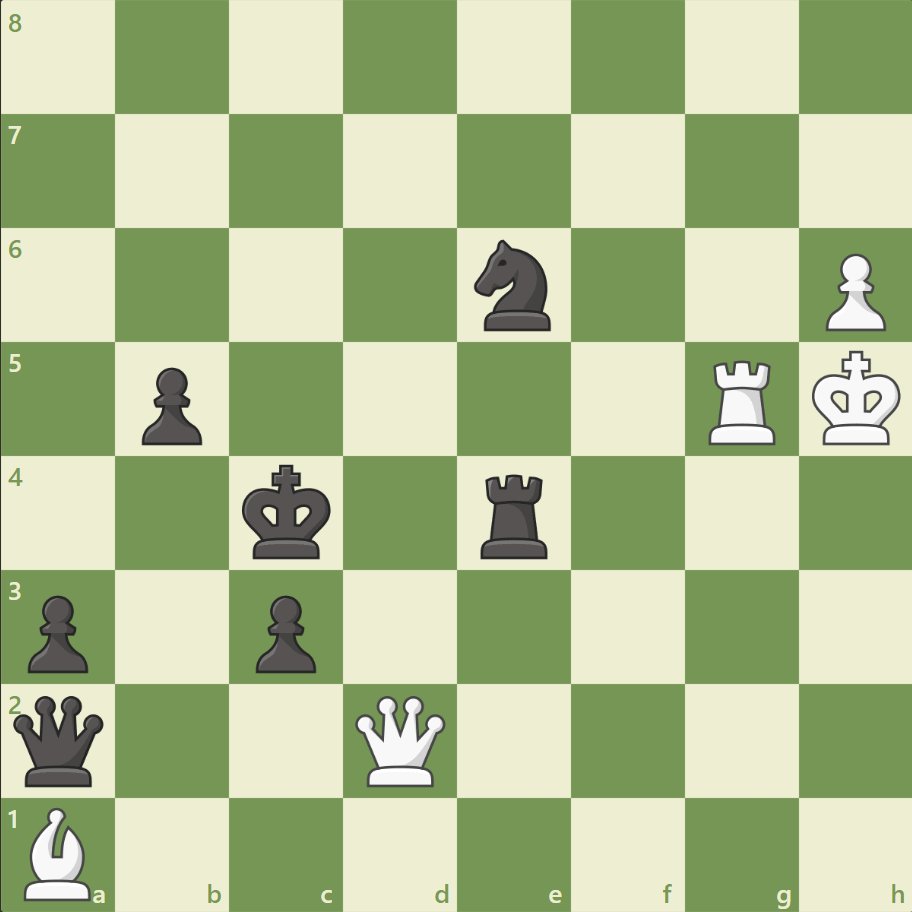B: (17, 801, 101, 904)
K: (806, 344, 906, 452)
P: (815, 246, 889, 337)
Q: (351, 690, 450, 789)
R: (700, 352, 783, 449)
k: (238, 458, 338, 566)
n: (465, 234, 562, 337)
p: (133, 359, 208, 450), (20, 586, 95, 677), (247, 586, 322, 677)
q: (10, 690, 109, 789)
r: (473, 466, 556, 563)
